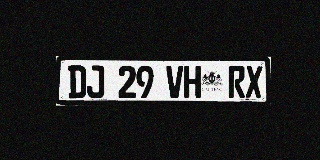2: (118, 65, 136, 98)
9: (136, 65, 154, 98)
D: (68, 65, 86, 98)
H: (184, 65, 201, 98)
J: (87, 65, 104, 98)
R: (228, 66, 245, 98)
V: (166, 65, 183, 98)
X: (245, 66, 262, 98)
